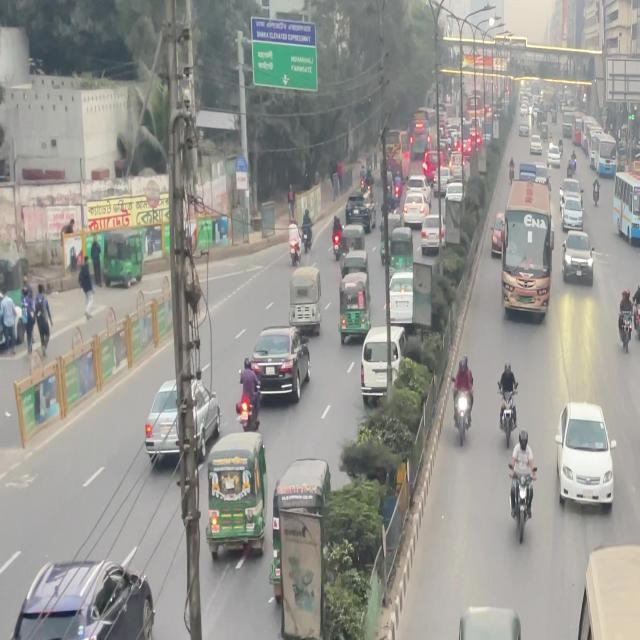bicycle: (504, 428, 540, 546)
bus: (273, 458, 329, 640), (206, 431, 274, 567), (503, 208, 553, 319), (85, 229, 152, 292), (615, 170, 640, 247), (556, 184, 586, 232)
car: (1, 554, 161, 640), (144, 378, 220, 465), (555, 402, 614, 509), (530, 217, 598, 301), (583, 541, 640, 640), (243, 328, 304, 398), (357, 329, 407, 412), (143, 382, 185, 469), (291, 274, 324, 339), (560, 233, 597, 290)
motorbike: (492, 364, 523, 437)
rickshaw: (454, 611, 525, 640)
